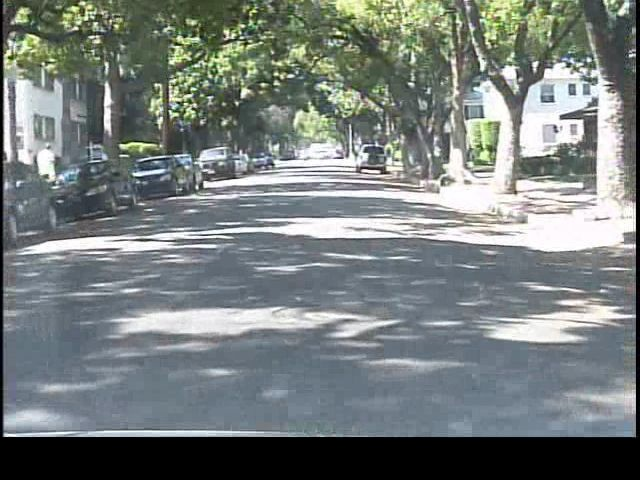person: (36, 138, 64, 203)
